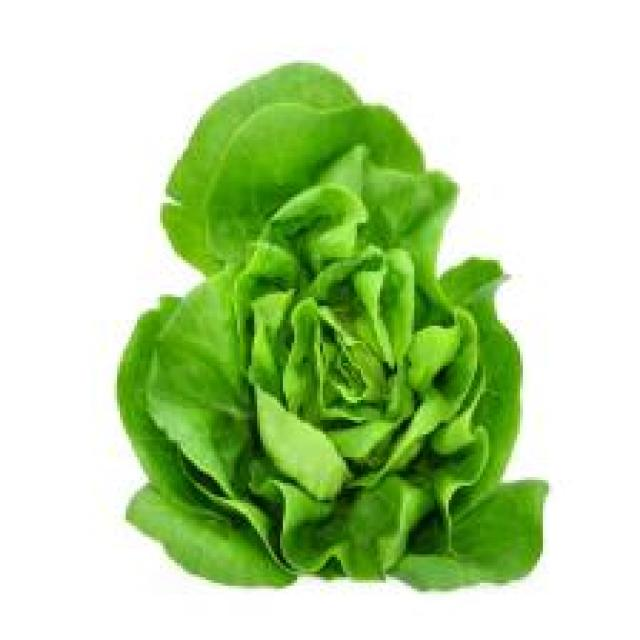Lettuce: (111, 50, 555, 600)
